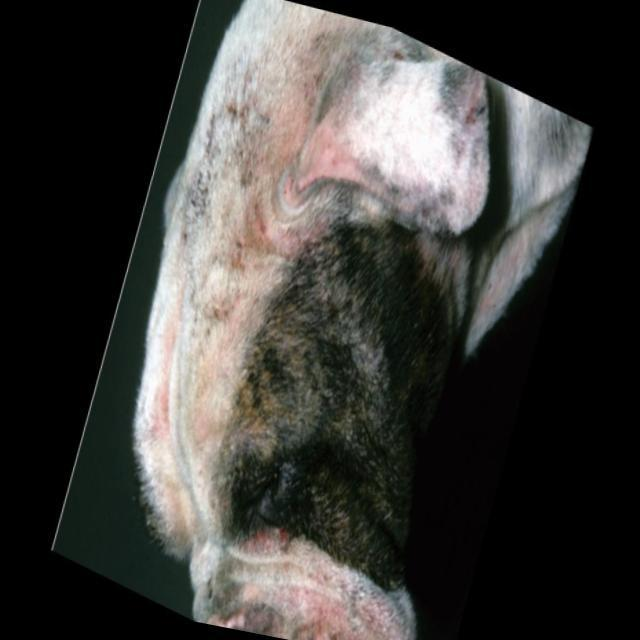mange: (140, 0, 411, 550)
